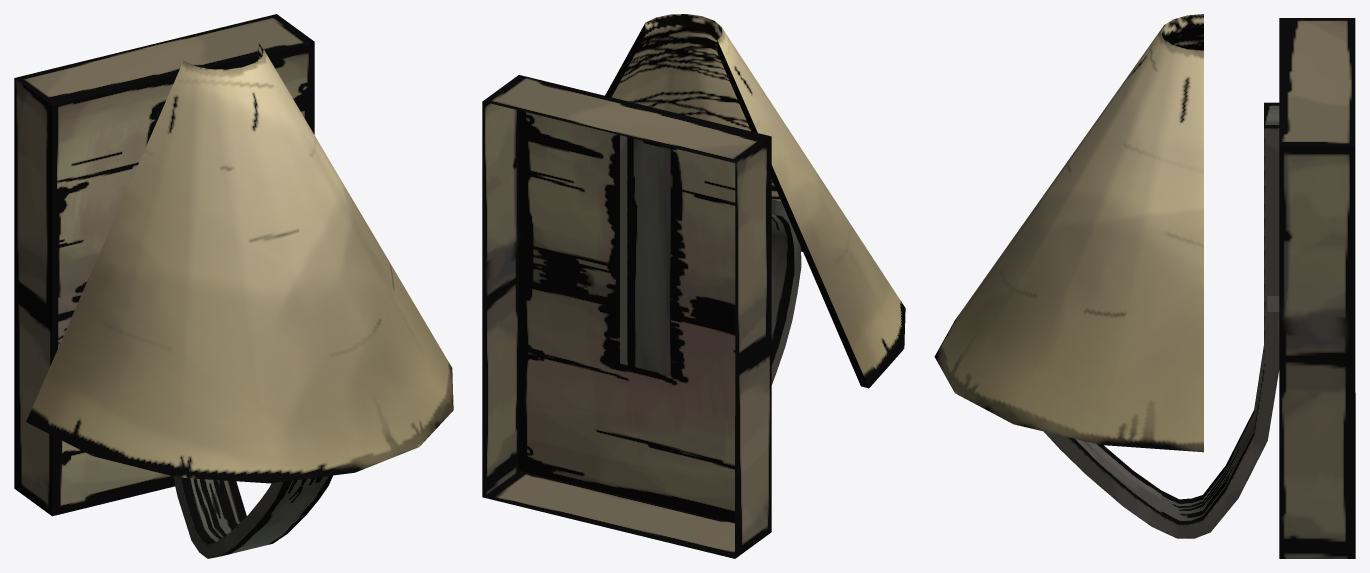
File: sconce.fbx
3 renders of one model, left to right at view 1: azimuth 30°, elevation 25°; view 2: azimuth 150°, elevation 25°; view 3: azimuth 270°, elevation 25°, orthographic. The views are drawn at different scales.
Parts seen in each view (by area): view 1: sconce; view 2: sconce; view 3: sconce.
Part boxes in pixels (<box>): sconce: <box>14,14,453,558</box>; sconce: <box>482,14,905,558</box>; sconce: <box>934,14,1355,558</box>.
Bounding box in the file's own units: 134 × 162 × 125.
